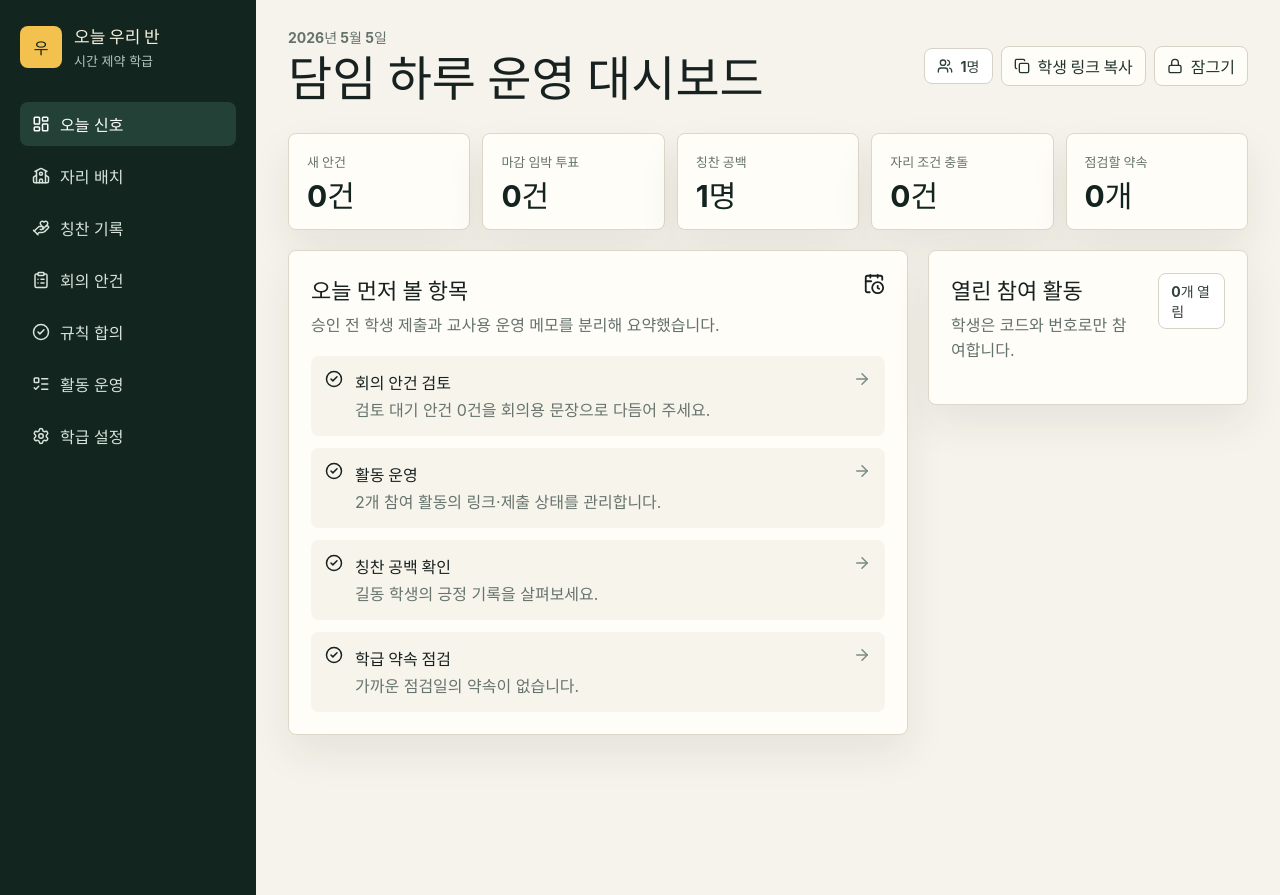
it: homeroom app workflows › aligns teacher open-activity indicators with starts and closes
The width and height of the screenshot is (1280, 895).
Check: the text "0개 열림" is shown, box [1158,273,1225,329]
Check: the text "만료된 활동" is not shown
Click the button "회의 안건": [128, 280] box [20,258,236,302]
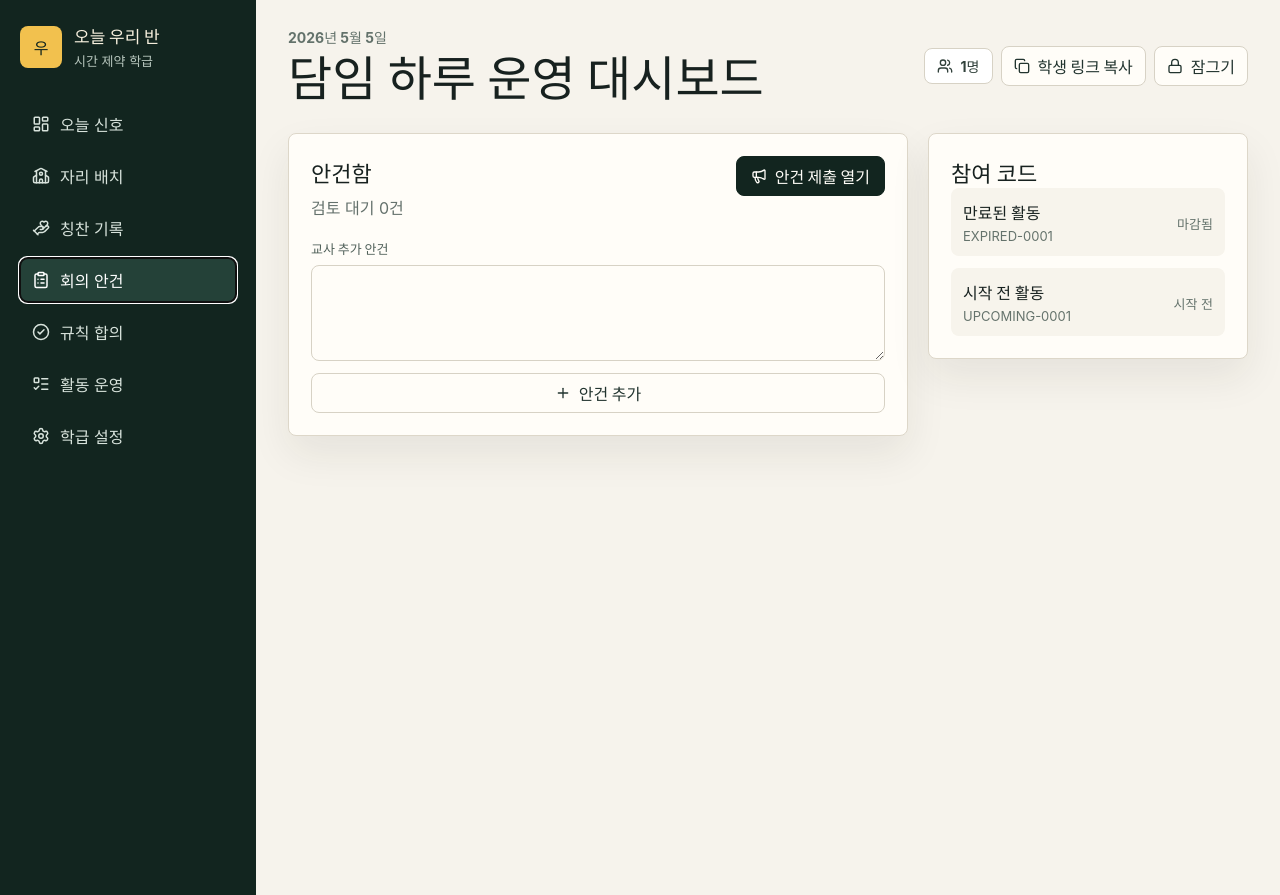
Check: the text "마감됨" is shown, box [1177,214,1213,233]
Check: the text "시작 전" is shown, box [1174,294,1213,313]
Click the button "활동 운영": [128, 384] box [20,362,236,406]
(page scrolled)
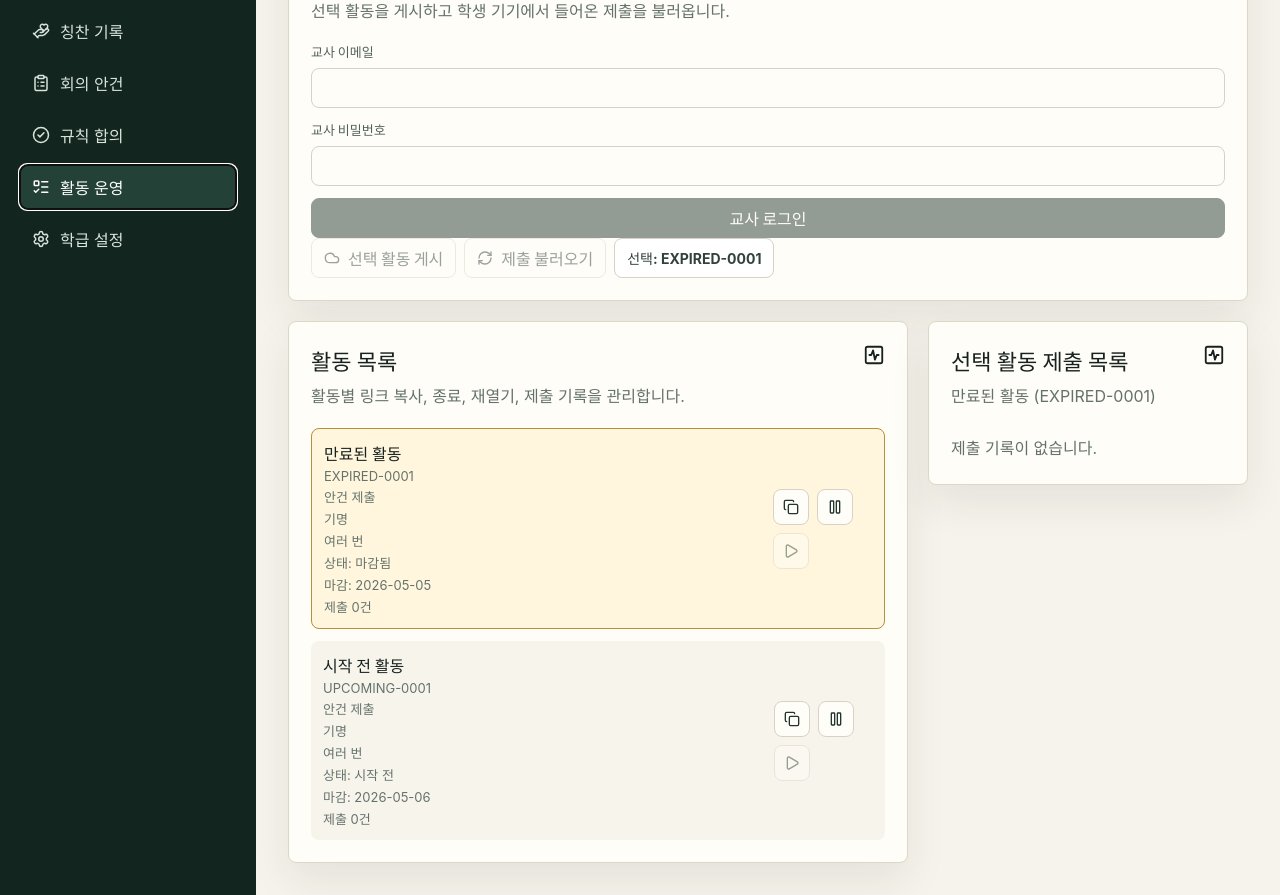
Check: the text "상태: 마감됨" is shown, box [324,553,391,572]
Check: the text "상태: 시작 전" is shown, box [323,765,394,784]
Check: the button named "EXPIRED-0001 종료" is enabled, box [817,488,853,524]
